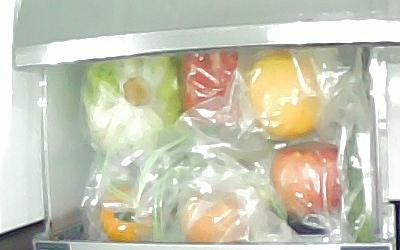apple_vinyl: (268, 142, 342, 216)
cucumber_vinyl: (345, 125, 375, 244)
grapefruit_vinyl: (245, 52, 325, 138)
lettuce_vinyl: (83, 55, 180, 162)
paprika_vinyl: (182, 51, 242, 125)
peach_vinyl: (179, 196, 246, 244)
persimmon_vinyl: (99, 185, 153, 243)
